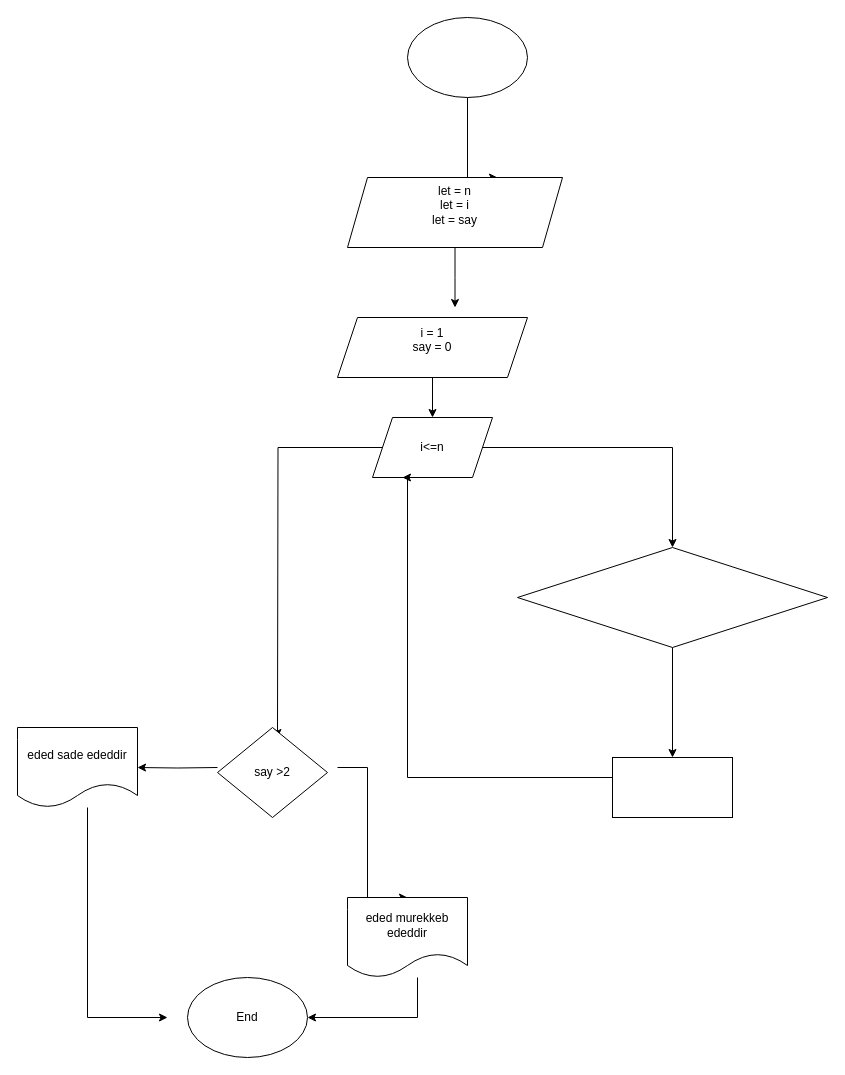
Some shapes in this 845 by 1075 pixel diagram are drawn without their labels. The shapes that lost their labels are listed below. From the top down, each one's centre as x and y in pixels, then its label:
At (467,57): "start".
At (672,597): "n % i == 0".
At (672,787): "say = say + 1 i = i +1".
